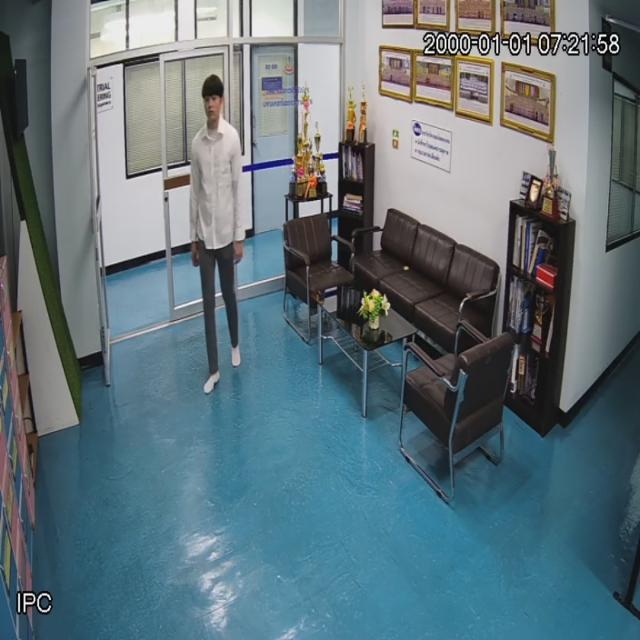normal: (186, 66, 249, 403)
